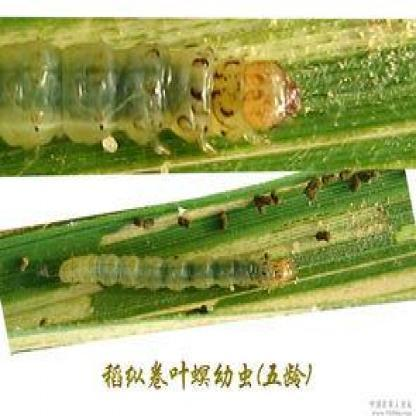leaf-folder: (5, 28, 313, 165), (52, 226, 307, 302)
